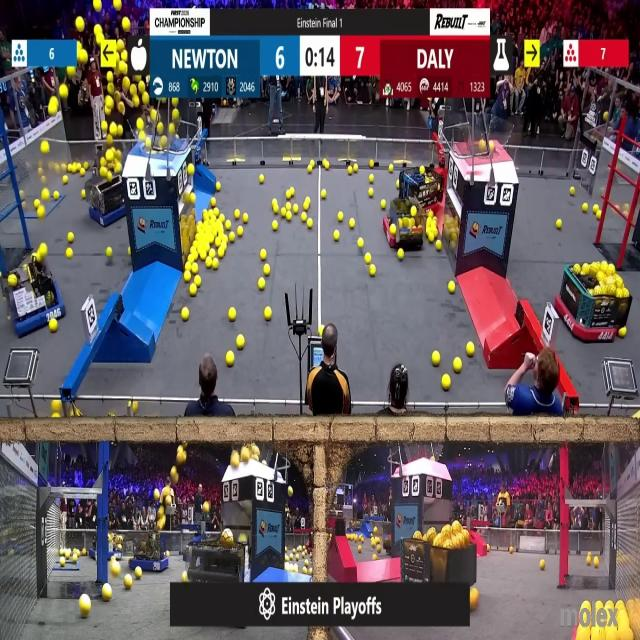ball_airborne: (48, 96, 58, 115), (51, 96, 60, 115), (95, 25, 104, 42), (178, 448, 186, 466), (77, 51, 87, 65), (232, 452, 240, 468), (242, 448, 251, 462), (60, 86, 68, 101), (118, 62, 126, 76), (41, 140, 49, 154), (172, 466, 179, 482), (76, 16, 84, 30), (122, 15, 129, 30), (106, 96, 114, 109), (159, 518, 167, 531), (480, 141, 488, 153), (172, 108, 180, 120), (109, 125, 117, 137), (68, 66, 76, 78), (94, 0, 102, 12), (142, 93, 149, 106), (172, 97, 180, 108), (149, 109, 156, 121), (161, 136, 168, 148), (188, 164, 195, 176), (116, 39, 123, 51), (37, 207, 44, 219), (159, 508, 167, 518), (116, 126, 123, 137), (204, 501, 211, 512), (134, 96, 140, 108), (108, 148, 114, 160), (488, 141, 494, 153), (121, 63, 127, 75), (137, 118, 144, 128), (158, 122, 165, 132), (117, 103, 123, 114), (123, 76, 129, 87), (170, 124, 176, 135), (153, 489, 159, 500), (140, 81, 146, 92), (114, 1, 121, 10), (166, 496, 173, 505), (102, 120, 108, 130), (131, 86, 137, 96), (108, 82, 114, 91), (140, 132, 146, 141), (115, 164, 121, 173), (165, 487, 171, 496), (108, 72, 113, 82), (108, 136, 113, 146), (288, 487, 293, 497), (121, 50, 126, 60), (34, 200, 40, 208), (101, 168, 107, 176), (146, 137, 150, 148), (101, 159, 107, 166), (169, 488, 174, 496), (138, 40, 142, 46)
ball_ground: (468, 588, 478, 611), (80, 595, 90, 617), (102, 585, 112, 602), (443, 376, 452, 391), (225, 352, 234, 366), (454, 357, 462, 372), (466, 343, 474, 357), (125, 578, 134, 590), (237, 337, 245, 350), (266, 307, 273, 321), (432, 352, 439, 366), (181, 309, 189, 321), (49, 320, 57, 332), (218, 247, 226, 258), (449, 281, 456, 293), (305, 198, 311, 212), (225, 234, 233, 244), (229, 307, 235, 320), (435, 241, 442, 252), (230, 233, 237, 244), (186, 308, 192, 320), (189, 284, 195, 296), (258, 278, 264, 290), (265, 265, 271, 277), (183, 273, 190, 283), (621, 327, 628, 337), (200, 250, 207, 260), (368, 266, 374, 277), (182, 571, 188, 582), (260, 249, 266, 260), (238, 228, 245, 237), (191, 264, 197, 274), (210, 248, 216, 258), (365, 252, 371, 262), (335, 232, 341, 242), (67, 248, 73, 258), (594, 557, 600, 567), (235, 210, 241, 220), (136, 568, 142, 578), (539, 560, 545, 570), (194, 276, 200, 286), (210, 260, 216, 270), (584, 601, 591, 609), (338, 212, 344, 221), (299, 212, 305, 221), (358, 238, 363, 248), (244, 212, 249, 222), (273, 200, 278, 210), (184, 264, 191, 271), (224, 220, 230, 228), (286, 212, 292, 220), (274, 206, 280, 214), (106, 248, 112, 256), (557, 219, 563, 227), (280, 209, 286, 217), (388, 165, 394, 173), (323, 162, 329, 170), (321, 189, 326, 198), (211, 199, 216, 208), (588, 556, 593, 565), (263, 280, 267, 291), (583, 205, 589, 212), (274, 220, 278, 230), (214, 259, 218, 269), (368, 162, 373, 170), (368, 174, 372, 183), (349, 167, 353, 176), (216, 182, 220, 191), (259, 175, 263, 184), (570, 186, 574, 195), (187, 254, 192, 261), (368, 187, 372, 195), (309, 219, 313, 227), (353, 165, 357, 173), (304, 568, 309, 574), (371, 555, 376, 561), (309, 167, 313, 173), (294, 566, 298, 570), (359, 548, 362, 553), (596, 213, 598, 219), (388, 166, 390, 170)
goal: (460, 116, 516, 156)
robot_blue: (8, 252, 70, 332), (86, 171, 126, 229), (131, 531, 169, 571)
robot_red: (559, 264, 630, 346), (400, 164, 444, 212), (385, 200, 426, 251)
